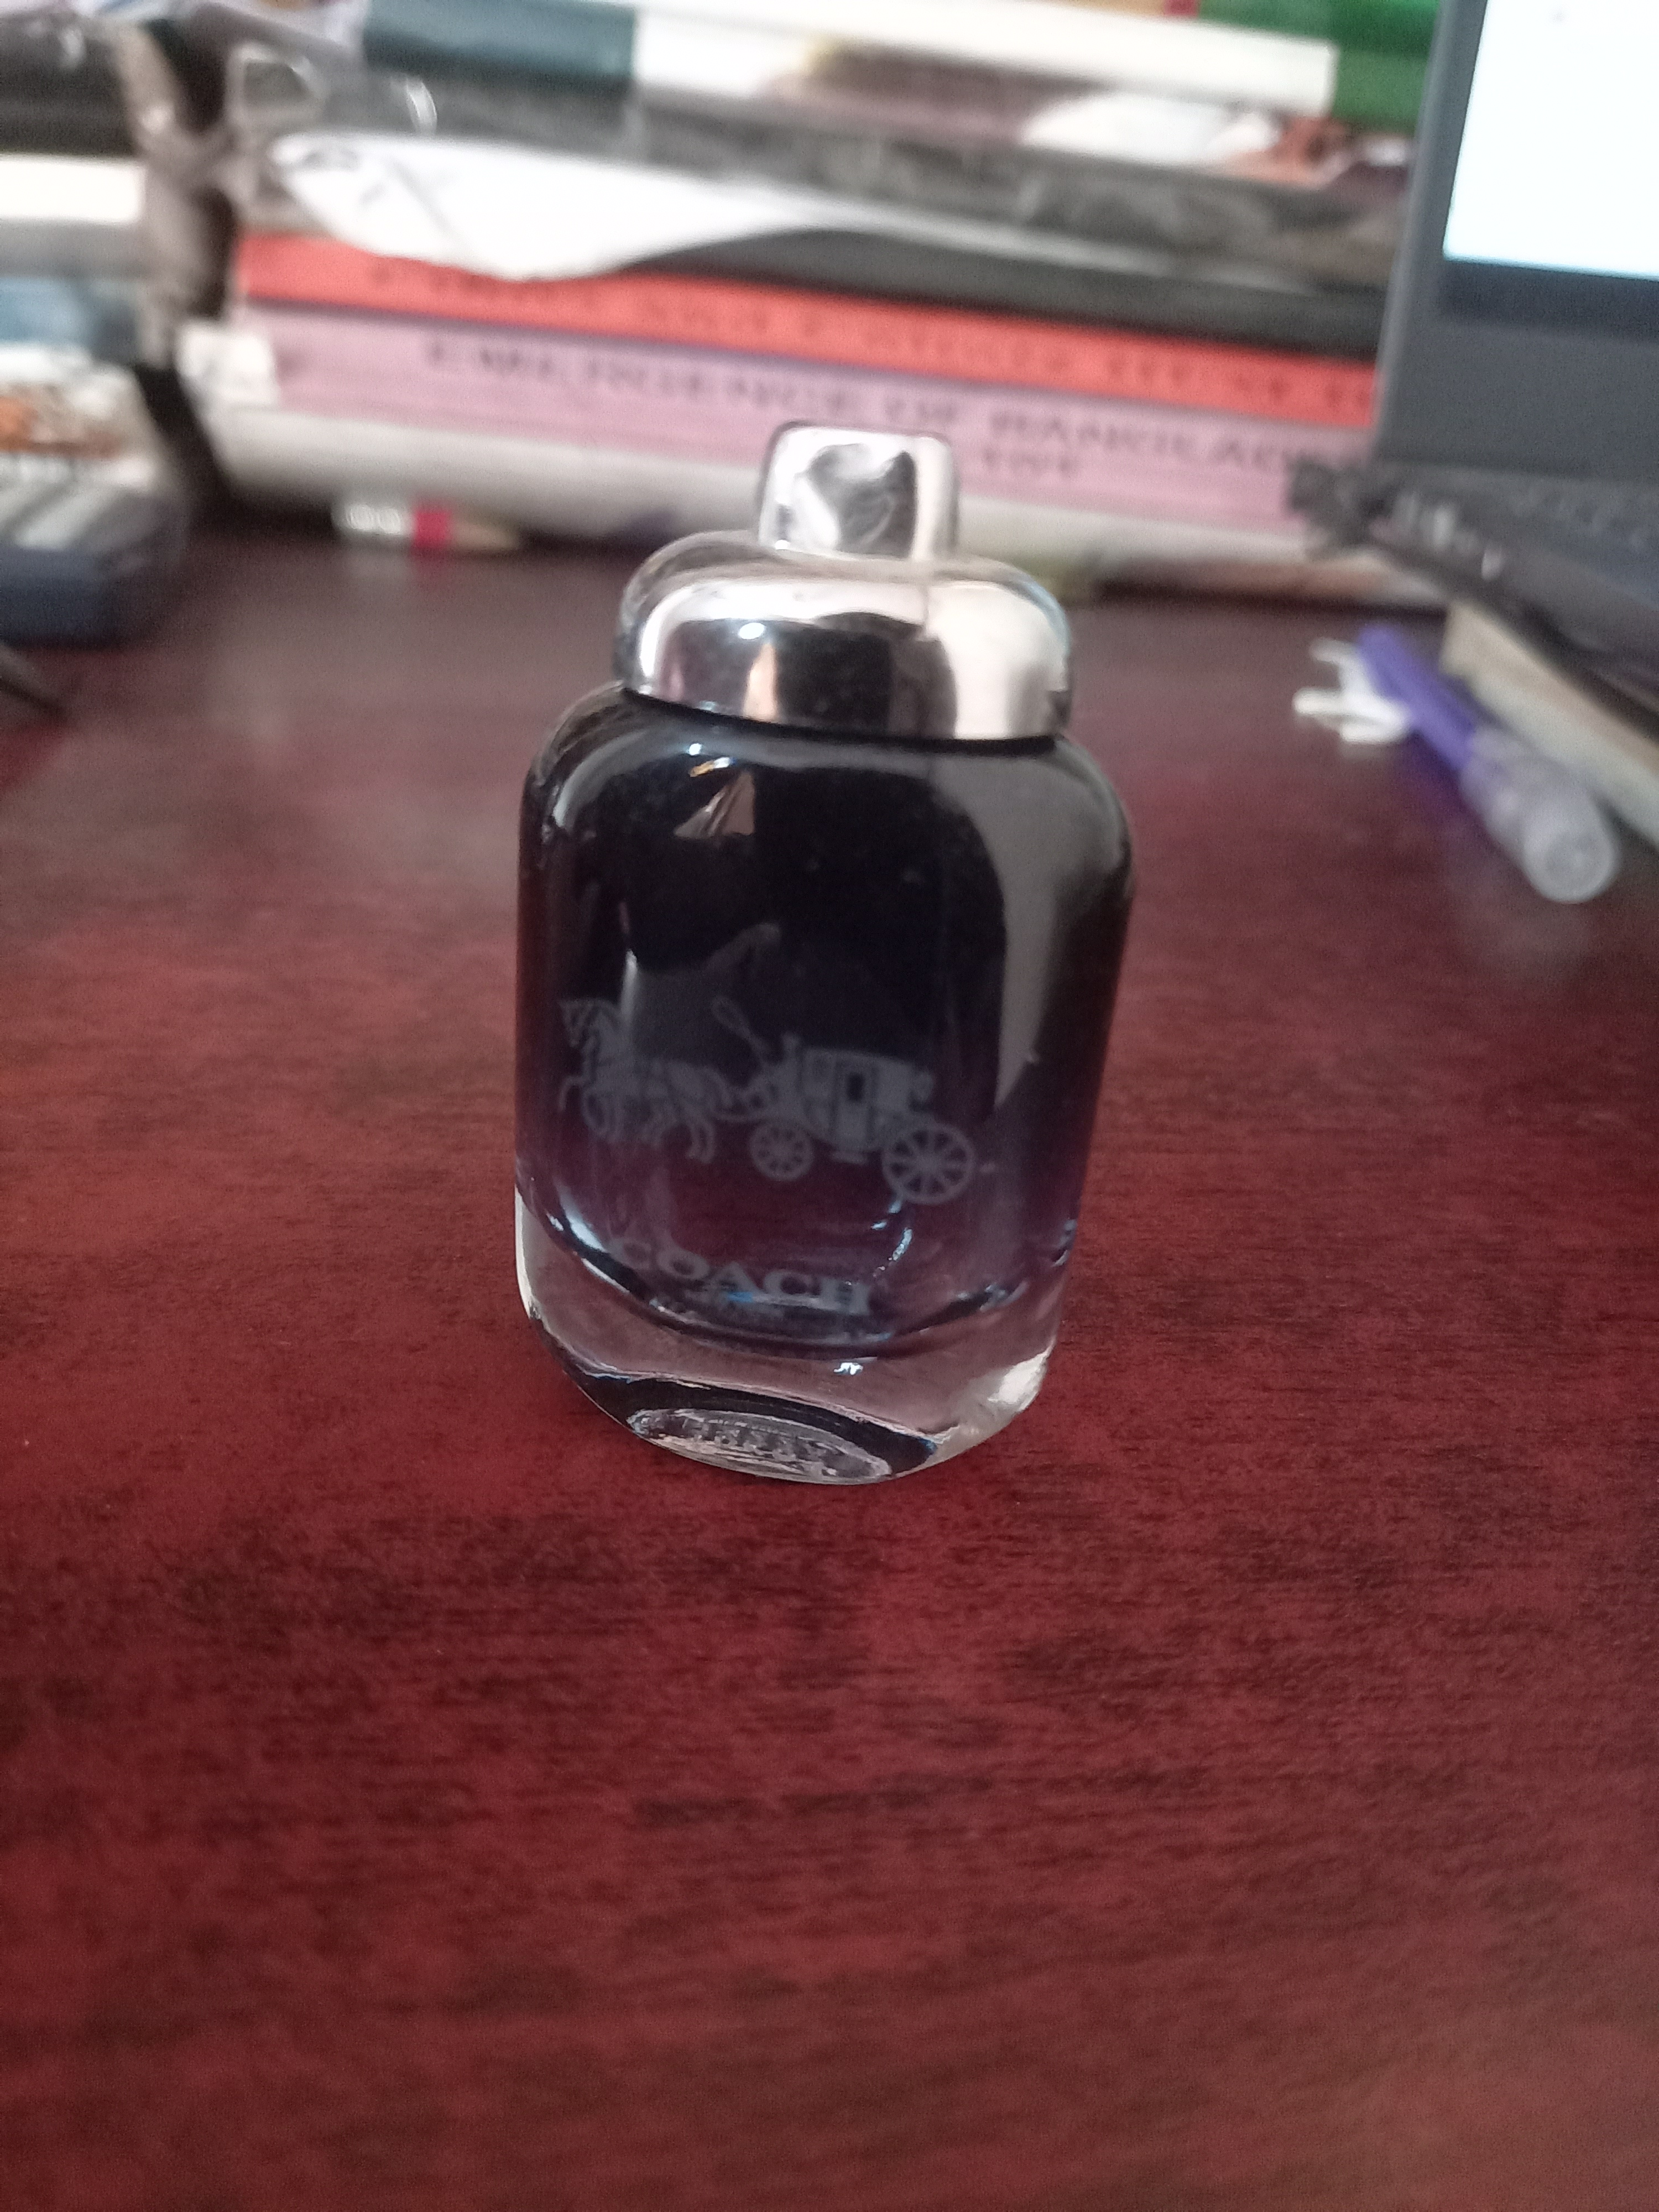perfume: (525, 404, 1075, 1468)
